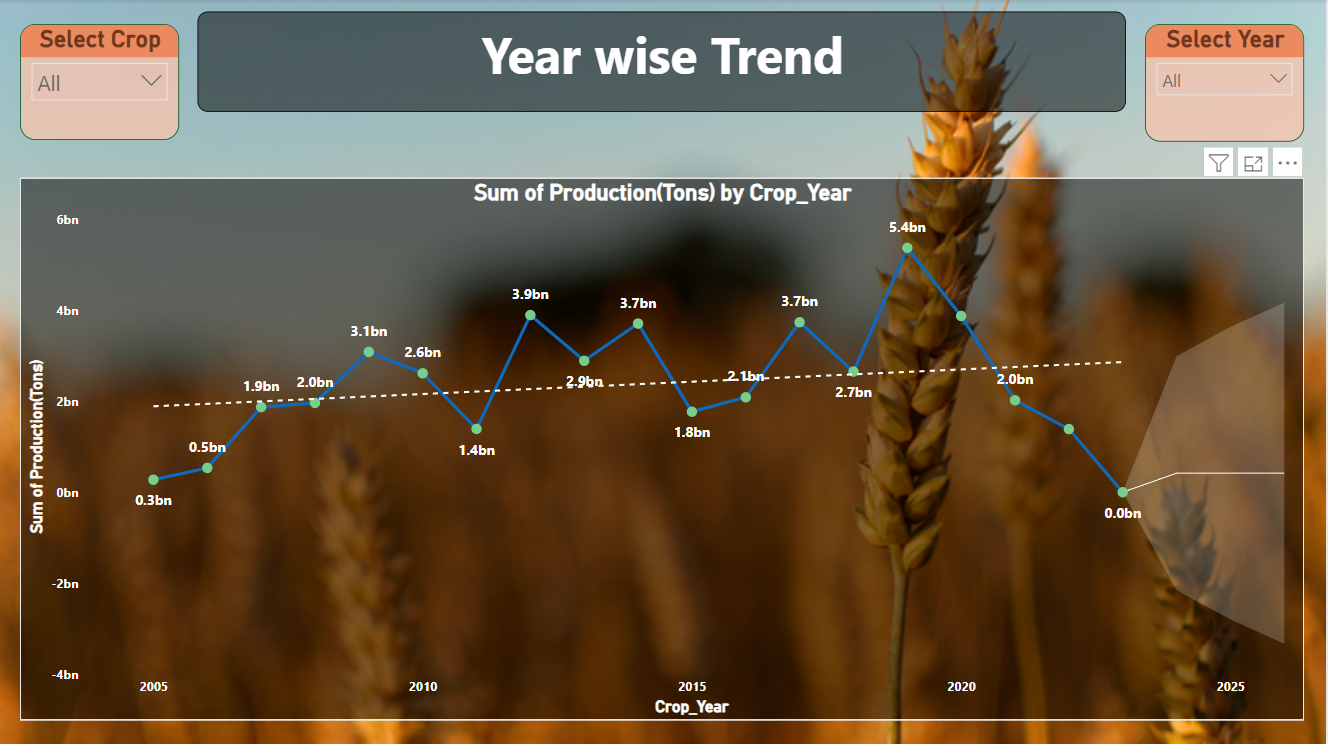

What the dashboard file says about the page in this screenshot:
{"tool":"powerbi","page":{"name":"Year wise Trend","canvas":[1280,720],"ordinal":6},"visuals":[{"type":"textbox","box":[190.6,12.1,896.4,96.5],"z":0},{"type":"slicer","title":"Select Crop","fields":{"Values":["apy_1.Crop"]},"box":[19.3,24.1,153.2,112.2],"z":1000},{"type":"slicer","title":"Select Year","fields":{"Values":["apy_1.Crop_Year"]},"box":[1105.1,24.1,153.2,113.4],"z":2000},{"type":"lineChart","fields":{"Category":["apy_1.Crop_Year"],"Y":["Sum(apy_1.Production(Tons))"]},"box":[19.3,172.5,1239,523.6],"z":3000}]}

Visuals, with their boxes in screenshot pixels (x1, y1, x2, y2), scaled from the page's 1280x720 canvas onto the 1328x744 screenshot:
textbox: rect(198, 13, 1128, 112)
"Select Crop" slicer: rect(20, 25, 179, 141)
"Select Year" slicer: rect(1147, 25, 1305, 142)
lineChart - apy_1.Crop_Year x Sum(apy_1.Production(Tons)): rect(20, 178, 1305, 719)
